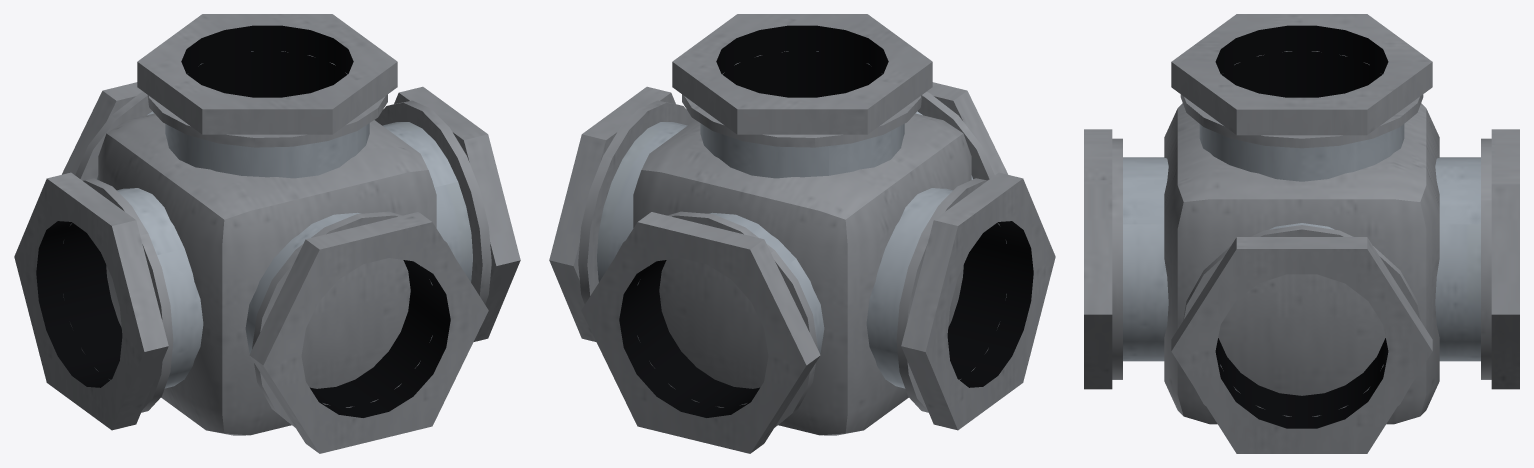
Rendered from small_pipe_five_way.glb.
3 renders of one model, left to right at view 1: azimuth 30°, elevation 25°; view 2: azimuth 150°, elevation 25°; view 3: azimuth 270°, elevation 25°, orthographic.
Visible parts, largest first — view 1: Body.007; view 2: Body.007; view 3: Body.007.
Boxes of the visible parts, x1,y1,x2,y2 form: Body.007: [14, 14, 520, 453]; Body.007: [549, 14, 1055, 453]; Body.007: [1084, 14, 1519, 453].
Bounding box in the file's own units: 0.247 × 0.202 × 0.247.
4 materials, 3 textured.
